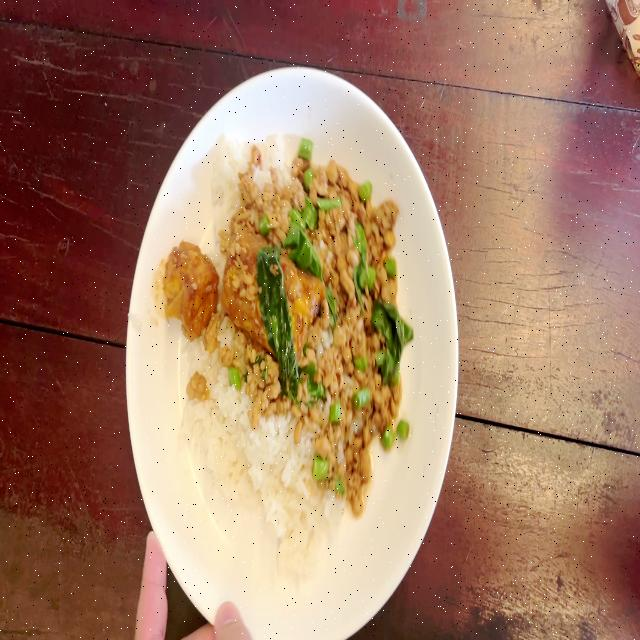fried_tofo: (235, 236, 316, 352), (165, 245, 212, 332)
minced_pork: (318, 253, 408, 499), (240, 133, 400, 254), (241, 343, 324, 412)
rice: (202, 406, 329, 566), (201, 144, 239, 231), (198, 346, 224, 390), (270, 137, 288, 180)
stir_fried_basil: (162, 136, 414, 578)
